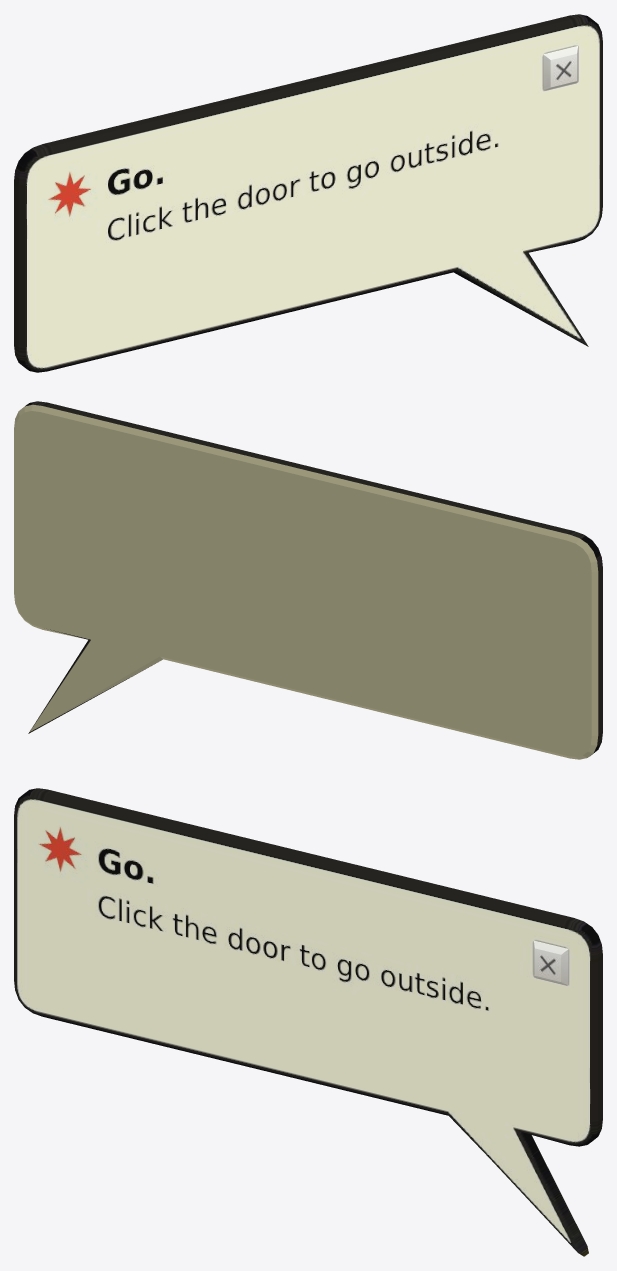
File: balloon-go.glb
The picture shows the model from 3 angles, top to bottom: view 1: azimuth 30°, elevation 25°; view 2: azimuth 150°, elevation 25°; view 3: azimuth 330°, elevation 25°; orthographic projection.
Visible parts, largest first — view 1: balloon; view 2: balloon; view 3: balloon.
Part boxes in pixels (x1,y1,x2,y2): balloon: (14, 14, 602, 372); balloon: (14, 401, 602, 759); balloon: (14, 788, 602, 1256).
Size of the model in its own units: 0.426 by 0.2312 by 0.016.
1 material, 1 textured.
